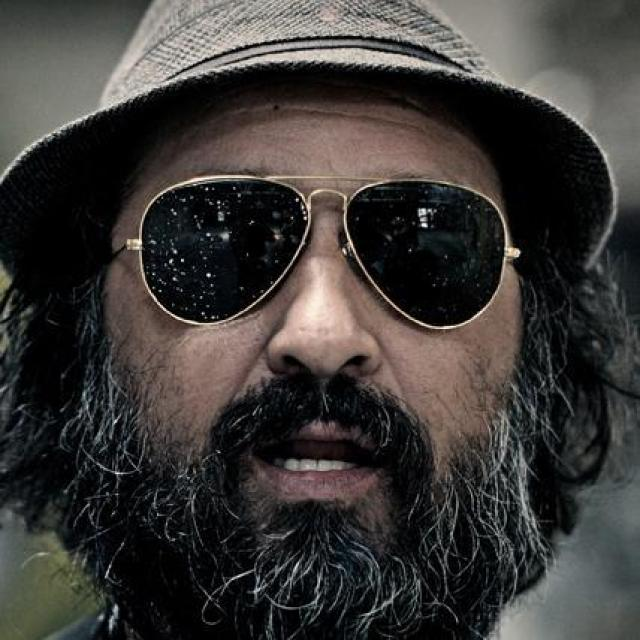surprised: (110, 64, 546, 603)
